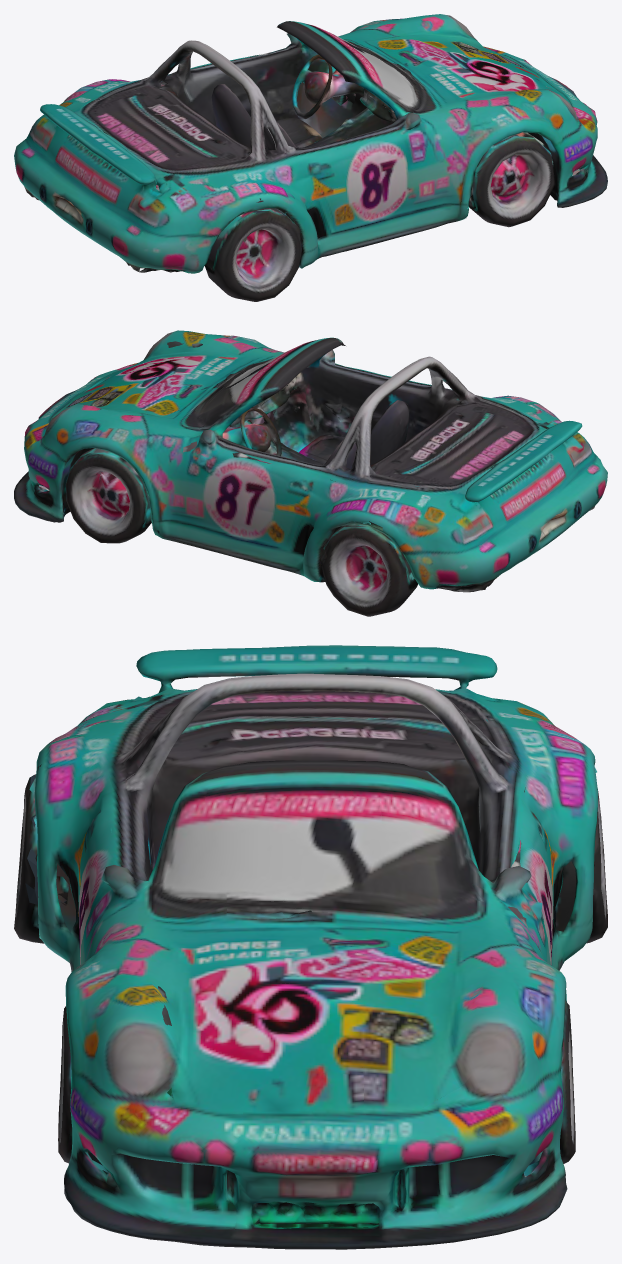
Rendered from macchinina-benny.fbx.
The picture shows the model from 3 angles, top to bottom: view 1: azimuth 30°, elevation 25°; view 2: azimuth 150°, elevation 25°; view 3: azimuth 270°, elevation 25°; orthographic projection. The views are drawn at different scales.
Visible parts, largest first — view 1: telaio, posteriore?dx, frontale_dx; view 2: telaio, post-sx, ant-sx; view 3: telaio, posteriore?dx, ant-sx, frontale_dx, post-sx.
Boxes of the visible parts, x1,y1,x2,y2 form: telaio: (14, 14, 607, 273); posteriore?dx: (205, 208, 301, 301); frontale_dx: (469, 132, 555, 227); telaio: (14, 330, 607, 592); post-sx: (322, 525, 417, 616); ant-sx: (65, 448, 151, 543); telaio: (34, 645, 597, 1249); posteriore?dx: (14, 774, 69, 943); ant-sx: (560, 1000, 575, 1163); frontale_dx: (58, 1006, 72, 1163); post-sx: (586, 789, 607, 943).
Bounding box in the file's own units: 99.36 × 32.61 × 58.64.
1 material, 1 textured.
